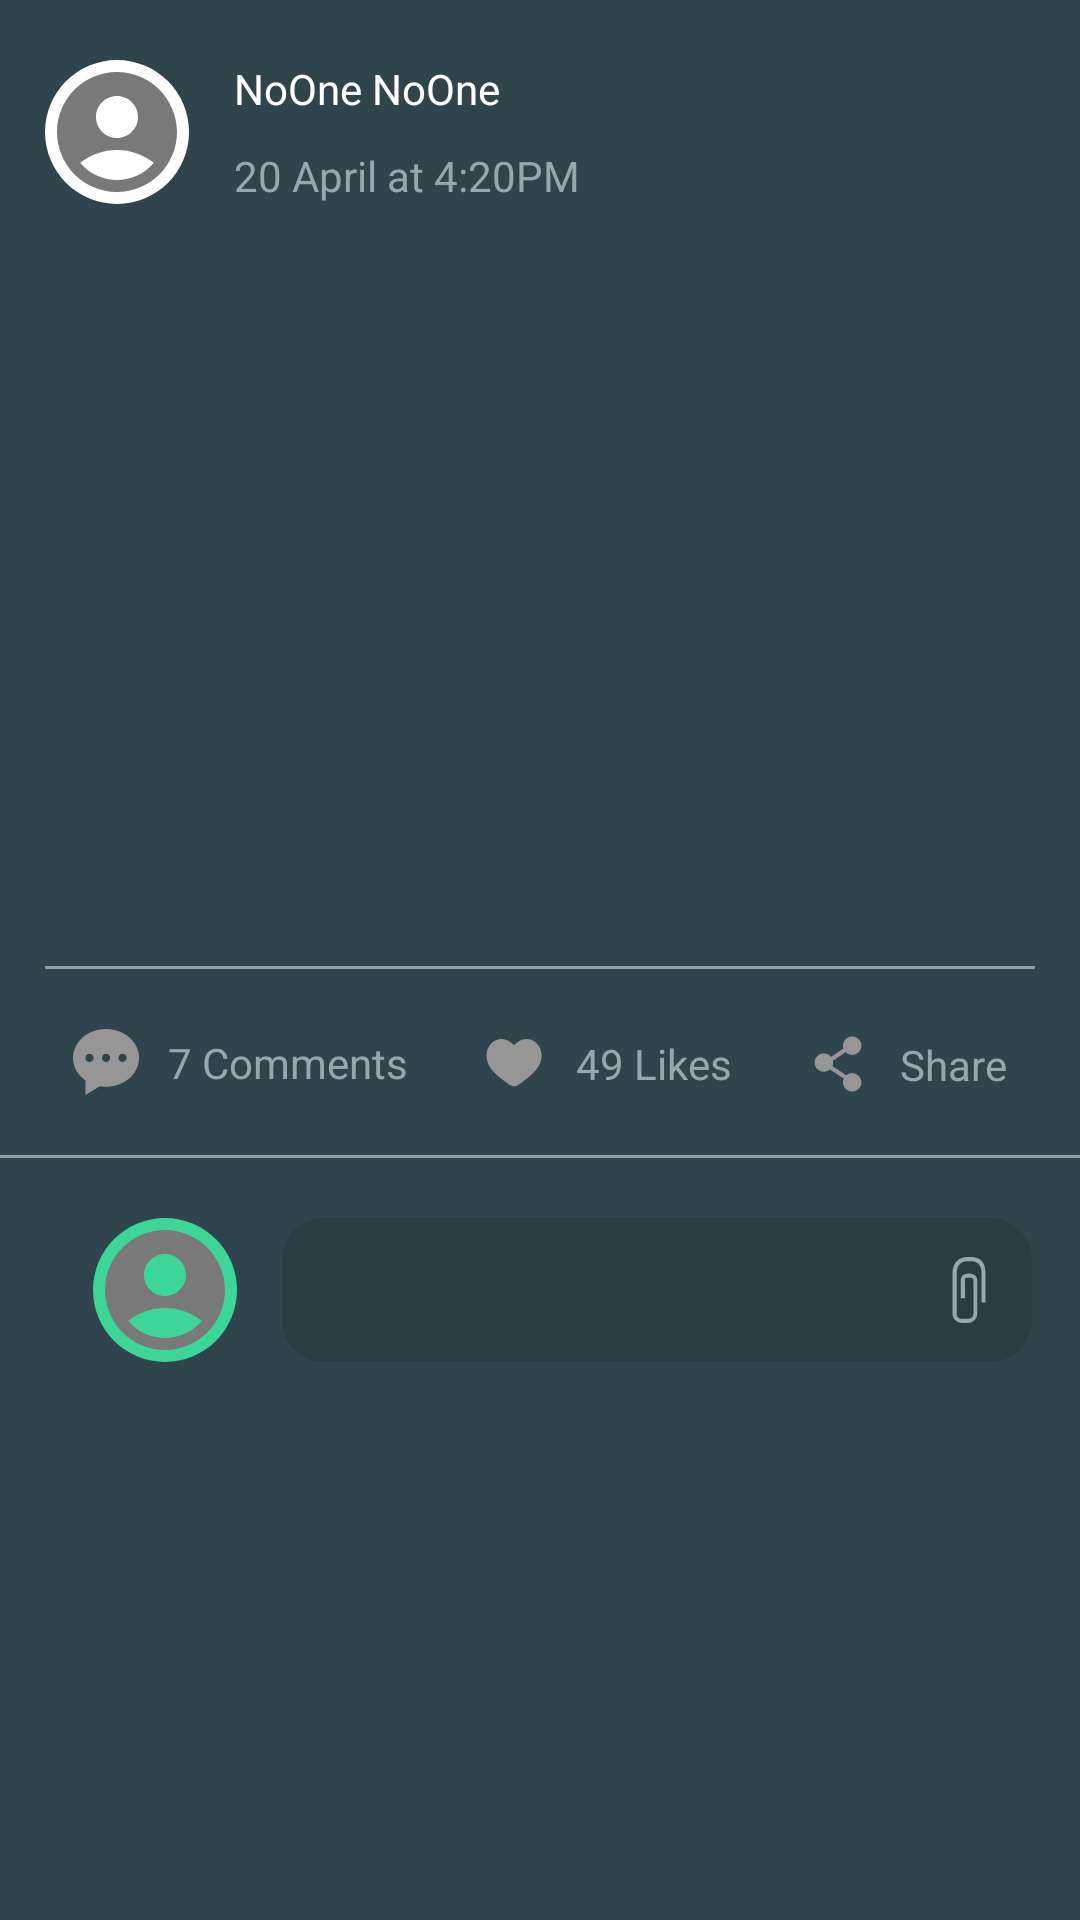

Point at icon controls on the screen. Image size 1080×1920, points as [x,y].
account: [117,132], [165,1290]
heart graey: [514,1063]
